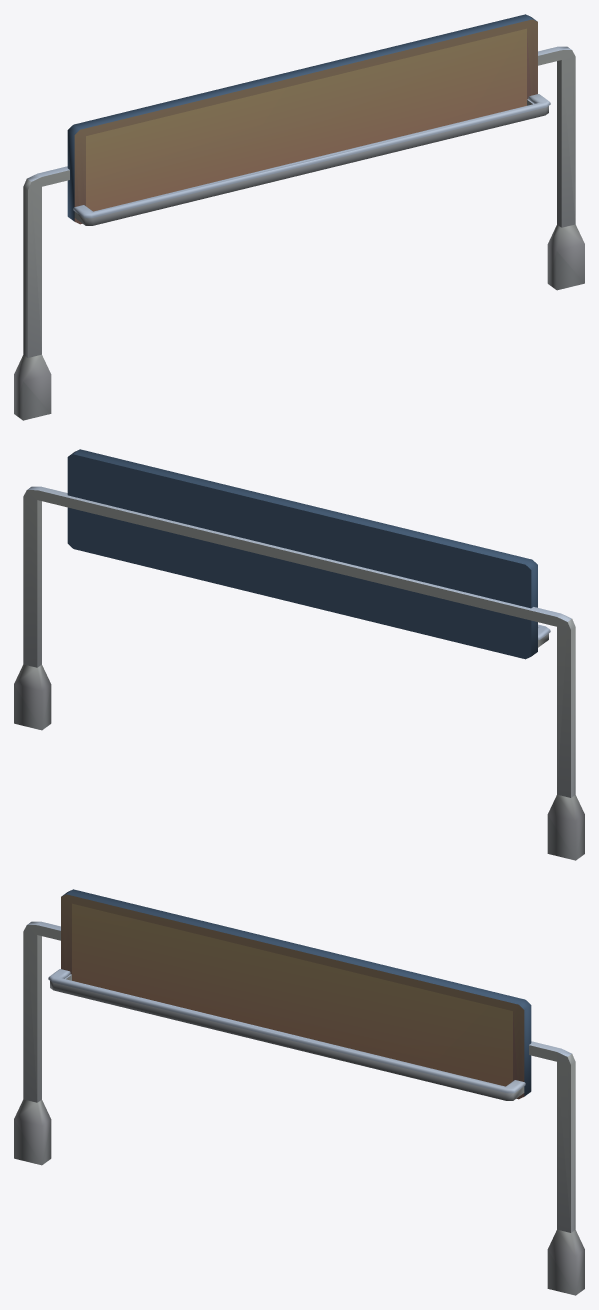
The model's file is gantry_sign_wide.glb.
The picture shows the model from 3 angles, top to bottom: view 1: azimuth 30°, elevation 25°; view 2: azimuth 150°, elevation 25°; view 3: azimuth 330°, elevation 25°; orthographic projection.
Visible parts, largest first — view 1: Prop, Panel; view 2: Panel, Prop; view 3: Prop, Panel.
Boxes of the visible parts, <box> form: Prop: <box>14,19,584,420</box>; Panel: <box>67,14,536,221</box>; Panel: <box>67,449,537,659</box>; Prop: <box>14,486,584,860</box>; Prop: <box>14,894,584,1295</box>; Panel: <box>62,889,531,1096</box>.
Bounding box in the file's own units: 16 × 7.6 × 1.2.
